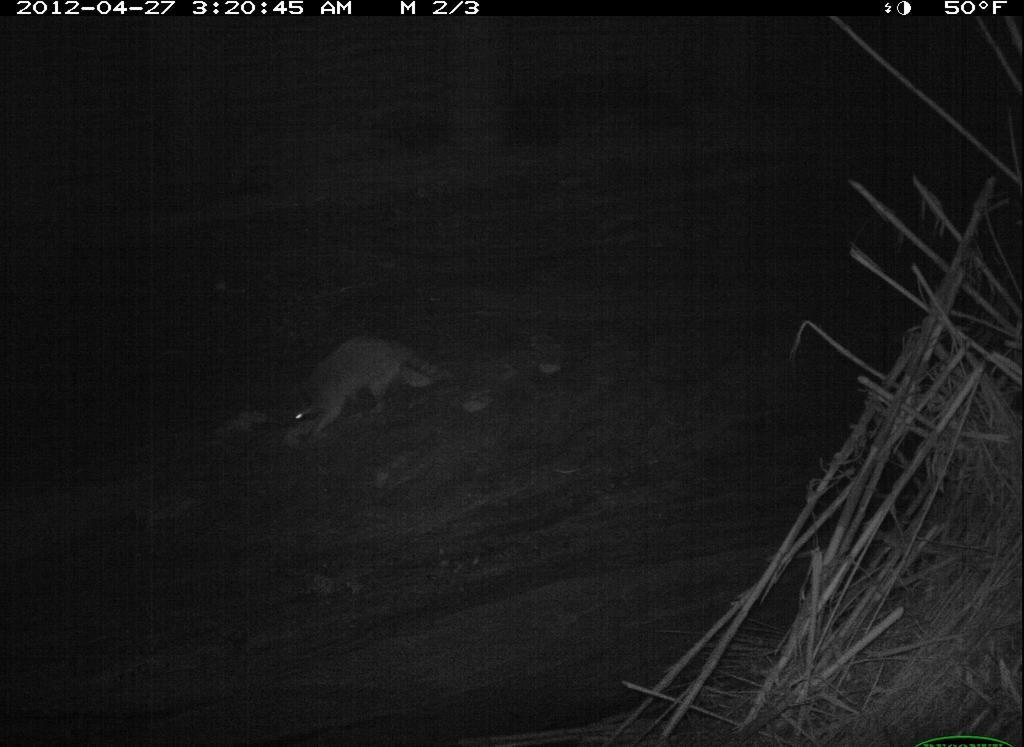raccoon: (264, 322, 468, 447)
